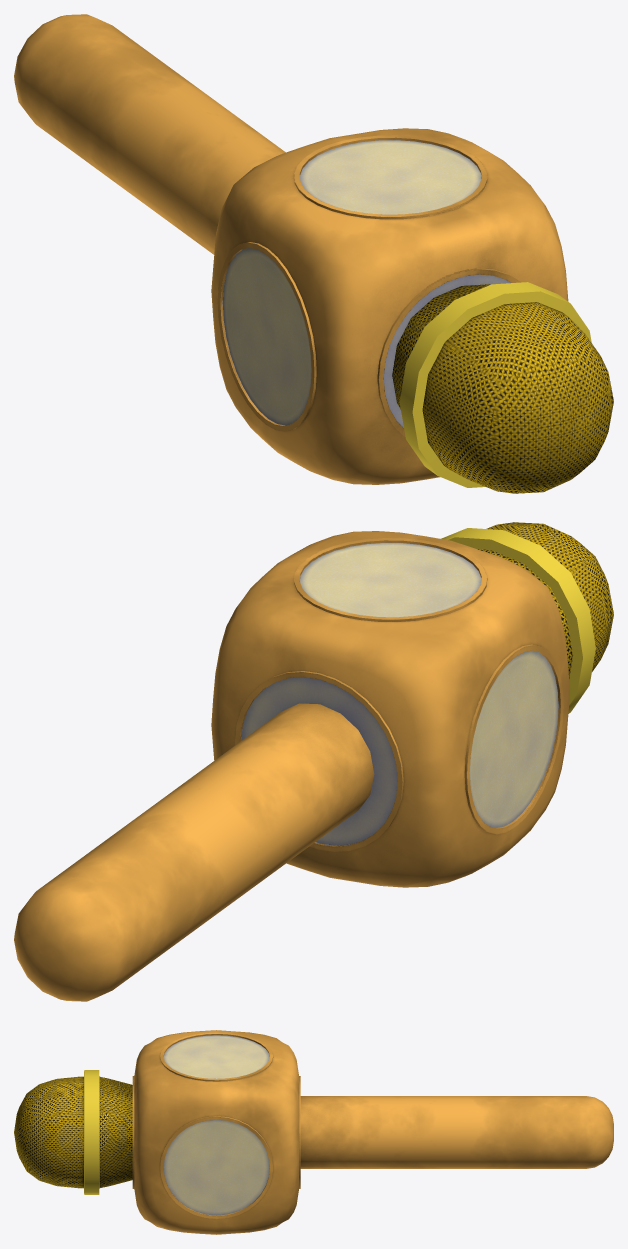
The model's file is Micro.fbx.
3 views of the same model, one above another, from view 1: azimuth 30°, elevation 25°; view 2: azimuth 150°, elevation 25°; view 3: azimuth 270°, elevation 25° (orthographic). The views are drawn at different scales.
Visible parts, largest first — view 1: Micro; view 2: Micro; view 3: Micro.
Part boxes in pixels (box(x1,y1,x2,y2)): Micro: box(14, 14, 613, 493); Micro: box(14, 522, 613, 1001); Micro: box(14, 1030, 613, 1234).
Bounding box in the file's own units: 9.85 × 9.85 × 35.18.
